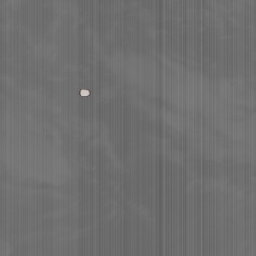Target: (78, 86, 91, 98)
